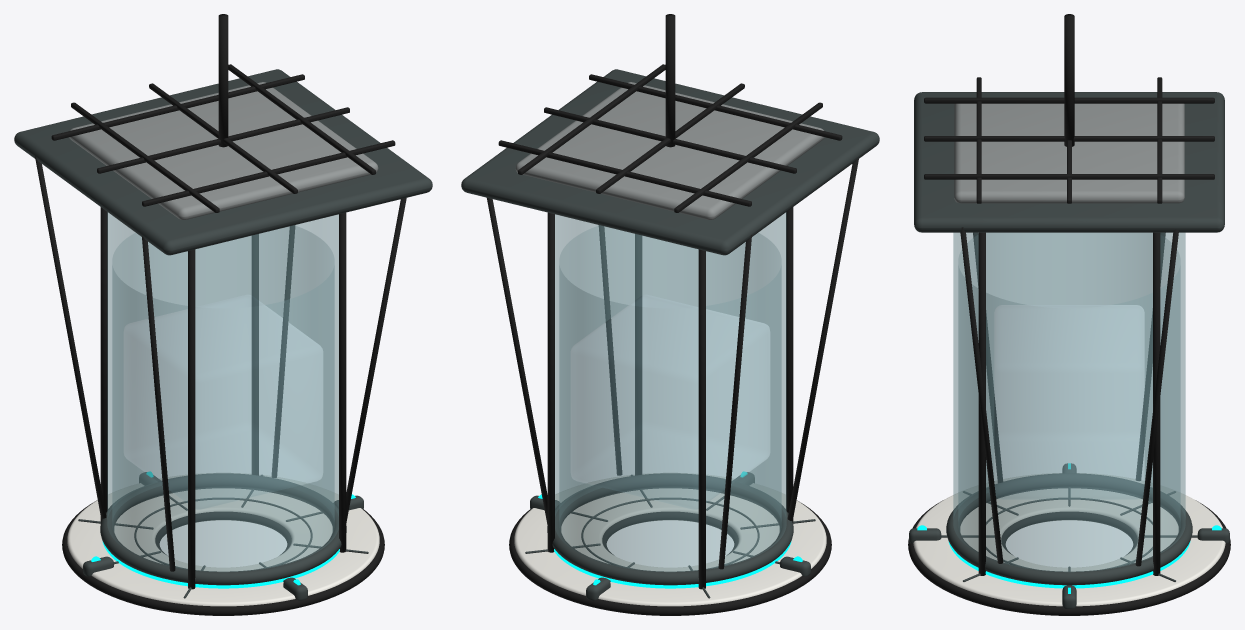
The model's file is CubeDropper.fbx.
The picture shows the model from 3 angles, left to right: view 1: azimuth 30°, elevation 25°; view 2: azimuth 150°, elevation 25°; view 3: azimuth 270°, elevation 25°; orthographic projection.
Parts seen in each view (by area): view 1: Transparent_Glass_Cylinder_Chamber, Inner_Glass_Thickness_Layer, Ceiling_Mount_Square_Plate, Ceiling_Mount_Inner_Plate, White_Bottom_Hatch_Ring_With_Empty_Hole, Bottom_Dark_Metal_Ring, Black_Outer_Hatch_Rim, Vertical_Black_Frame_Rod_3, Vertical_Black_Frame_Rod_4, Vertical_Black_Frame_Rod_2, Angled_Outer_Hanging_Bracket_2, Angled_Outer_Hanging_Bracket_3 (+13 smaller); view 2: Transparent_Glass_Cylinder_Chamber, Inner_Glass_Thickness_Layer, Ceiling_Mount_Square_Plate, Ceiling_Mount_Inner_Plate, White_Bottom_Hatch_Ring_With_Empty_Hole, Bottom_Dark_Metal_Ring, Black_Outer_Hatch_Rim, Vertical_Black_Frame_Rod_2, Vertical_Black_Frame_Rod_1, Vertical_Black_Frame_Rod_3, Angled_Outer_Hanging_Bracket_3, Angled_Outer_Hanging_Bracket_2 (+13 smaller); view 3: Transparent_Glass_Cylinder_Chamber, Inner_Glass_Thickness_Layer, Ceiling_Mount_Inner_Plate, Ceiling_Mount_Square_Plate, White_Bottom_Hatch_Ring_With_Empty_Hole, Bottom_Dark_Metal_Ring, Black_Outer_Hatch_Rim, Vertical_Black_Frame_Rod_4, Vertical_Black_Frame_Rod_1, Angled_Outer_Hanging_Bracket_1, Angled_Outer_Hanging_Bracket_4, Small_Ceiling_Grid_Bar_Y_-0.45 (+10 smaller).
Boxes of the visible parts, x1,y1,x2,y2 form: Transparent_Glass_Cylinder_Chamber: [107, 212, 338, 571]; Inner_Glass_Thickness_Layer: [112, 226, 334, 570]; Ceiling_Mount_Square_Plate: [14, 69, 432, 255]; Ceiling_Mount_Inner_Plate: [69, 82, 378, 219]; White_Bottom_Hatch_Ring_With_Empty_Hole: [67, 473, 379, 606]; Bottom_Dark_Metal_Ring: [100, 473, 346, 585]; Black_Outer_Hatch_Rim: [62, 500, 384, 615]; Vertical_Black_Frame_Rod_3: [188, 249, 195, 589]; Vertical_Black_Frame_Rod_4: [339, 212, 346, 552]; Vertical_Black_Frame_Rod_2: [100, 207, 107, 522]; Angled_Outer_Hanging_Bracket_2: [35, 156, 106, 518]; Angled_Outer_Hanging_Bracket_3: [142, 236, 175, 571]; Transparent_Glass_Cylinder_Chamber: [555, 212, 786, 571]; Inner_Glass_Thickness_Layer: [559, 226, 781, 570]; Ceiling_Mount_Square_Plate: [461, 69, 879, 255]; Ceiling_Mount_Inner_Plate: [515, 82, 824, 219]; White_Bottom_Hatch_Ring_With_Empty_Hole: [514, 473, 826, 606]; Bottom_Dark_Metal_Ring: [547, 473, 793, 585]; Black_Outer_Hatch_Rim: [509, 500, 831, 615]; Vertical_Black_Frame_Rod_2: [698, 249, 705, 589]; Vertical_Black_Frame_Rod_1: [547, 212, 554, 552]; Vertical_Black_Frame_Rod_3: [786, 207, 793, 522]; Angled_Outer_Hanging_Bracket_3: [787, 158, 858, 520]; Angled_Outer_Hanging_Bracket_2: [718, 234, 751, 569]; Transparent_Glass_Cylinder_Chamber: [953, 232, 1185, 571]; Inner_Glass_Thickness_Layer: [958, 233, 1180, 571]; Ceiling_Mount_Inner_Plate: [954, 103, 1184, 203]; Ceiling_Mount_Square_Plate: [914, 92, 1224, 232]; White_Bottom_Hatch_Ring_With_Empty_Hole: [913, 473, 1225, 606]; Bottom_Dark_Metal_Ring: [946, 473, 1192, 585]; Black_Outer_Hatch_Rim: [908, 500, 1230, 615]; Vertical_Black_Frame_Rod_4: [978, 232, 985, 575]; Vertical_Black_Frame_Rod_1: [1153, 232, 1160, 575]; Angled_Outer_Hanging_Bracket_1: [1135, 229, 1178, 566]; Angled_Outer_Hanging_Bracket_4: [960, 227, 1003, 563]; Small_Ceiling_Grid_Bar_Y_-0.45: [924, 97, 1214, 103].
Bounding box in the file's own units: 161 × 294 × 161.
